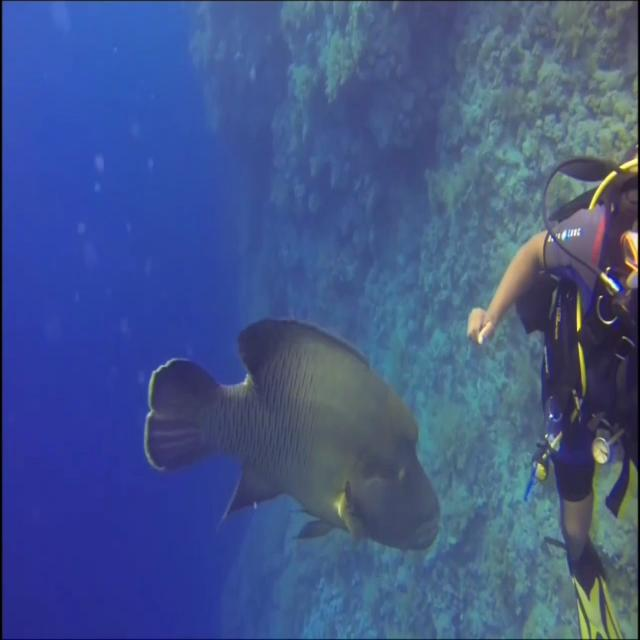Napoleon -Endangered-: (145, 318, 442, 550)
